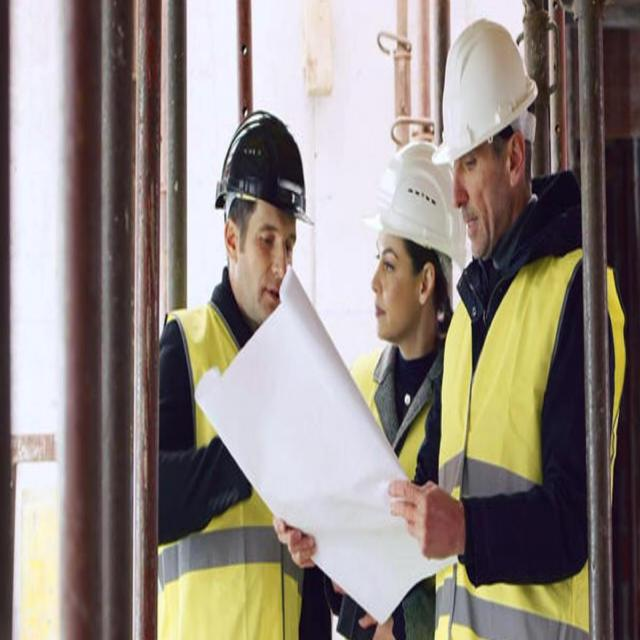Reflective-Jacket: (432, 236, 629, 638), (152, 292, 306, 640), (344, 332, 451, 637)
Safety-Helmet: (428, 14, 539, 179), (206, 98, 319, 235), (362, 122, 463, 272)
